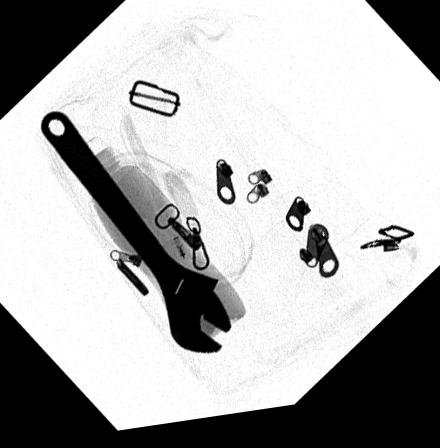Wrench: (38, 111, 233, 363)
